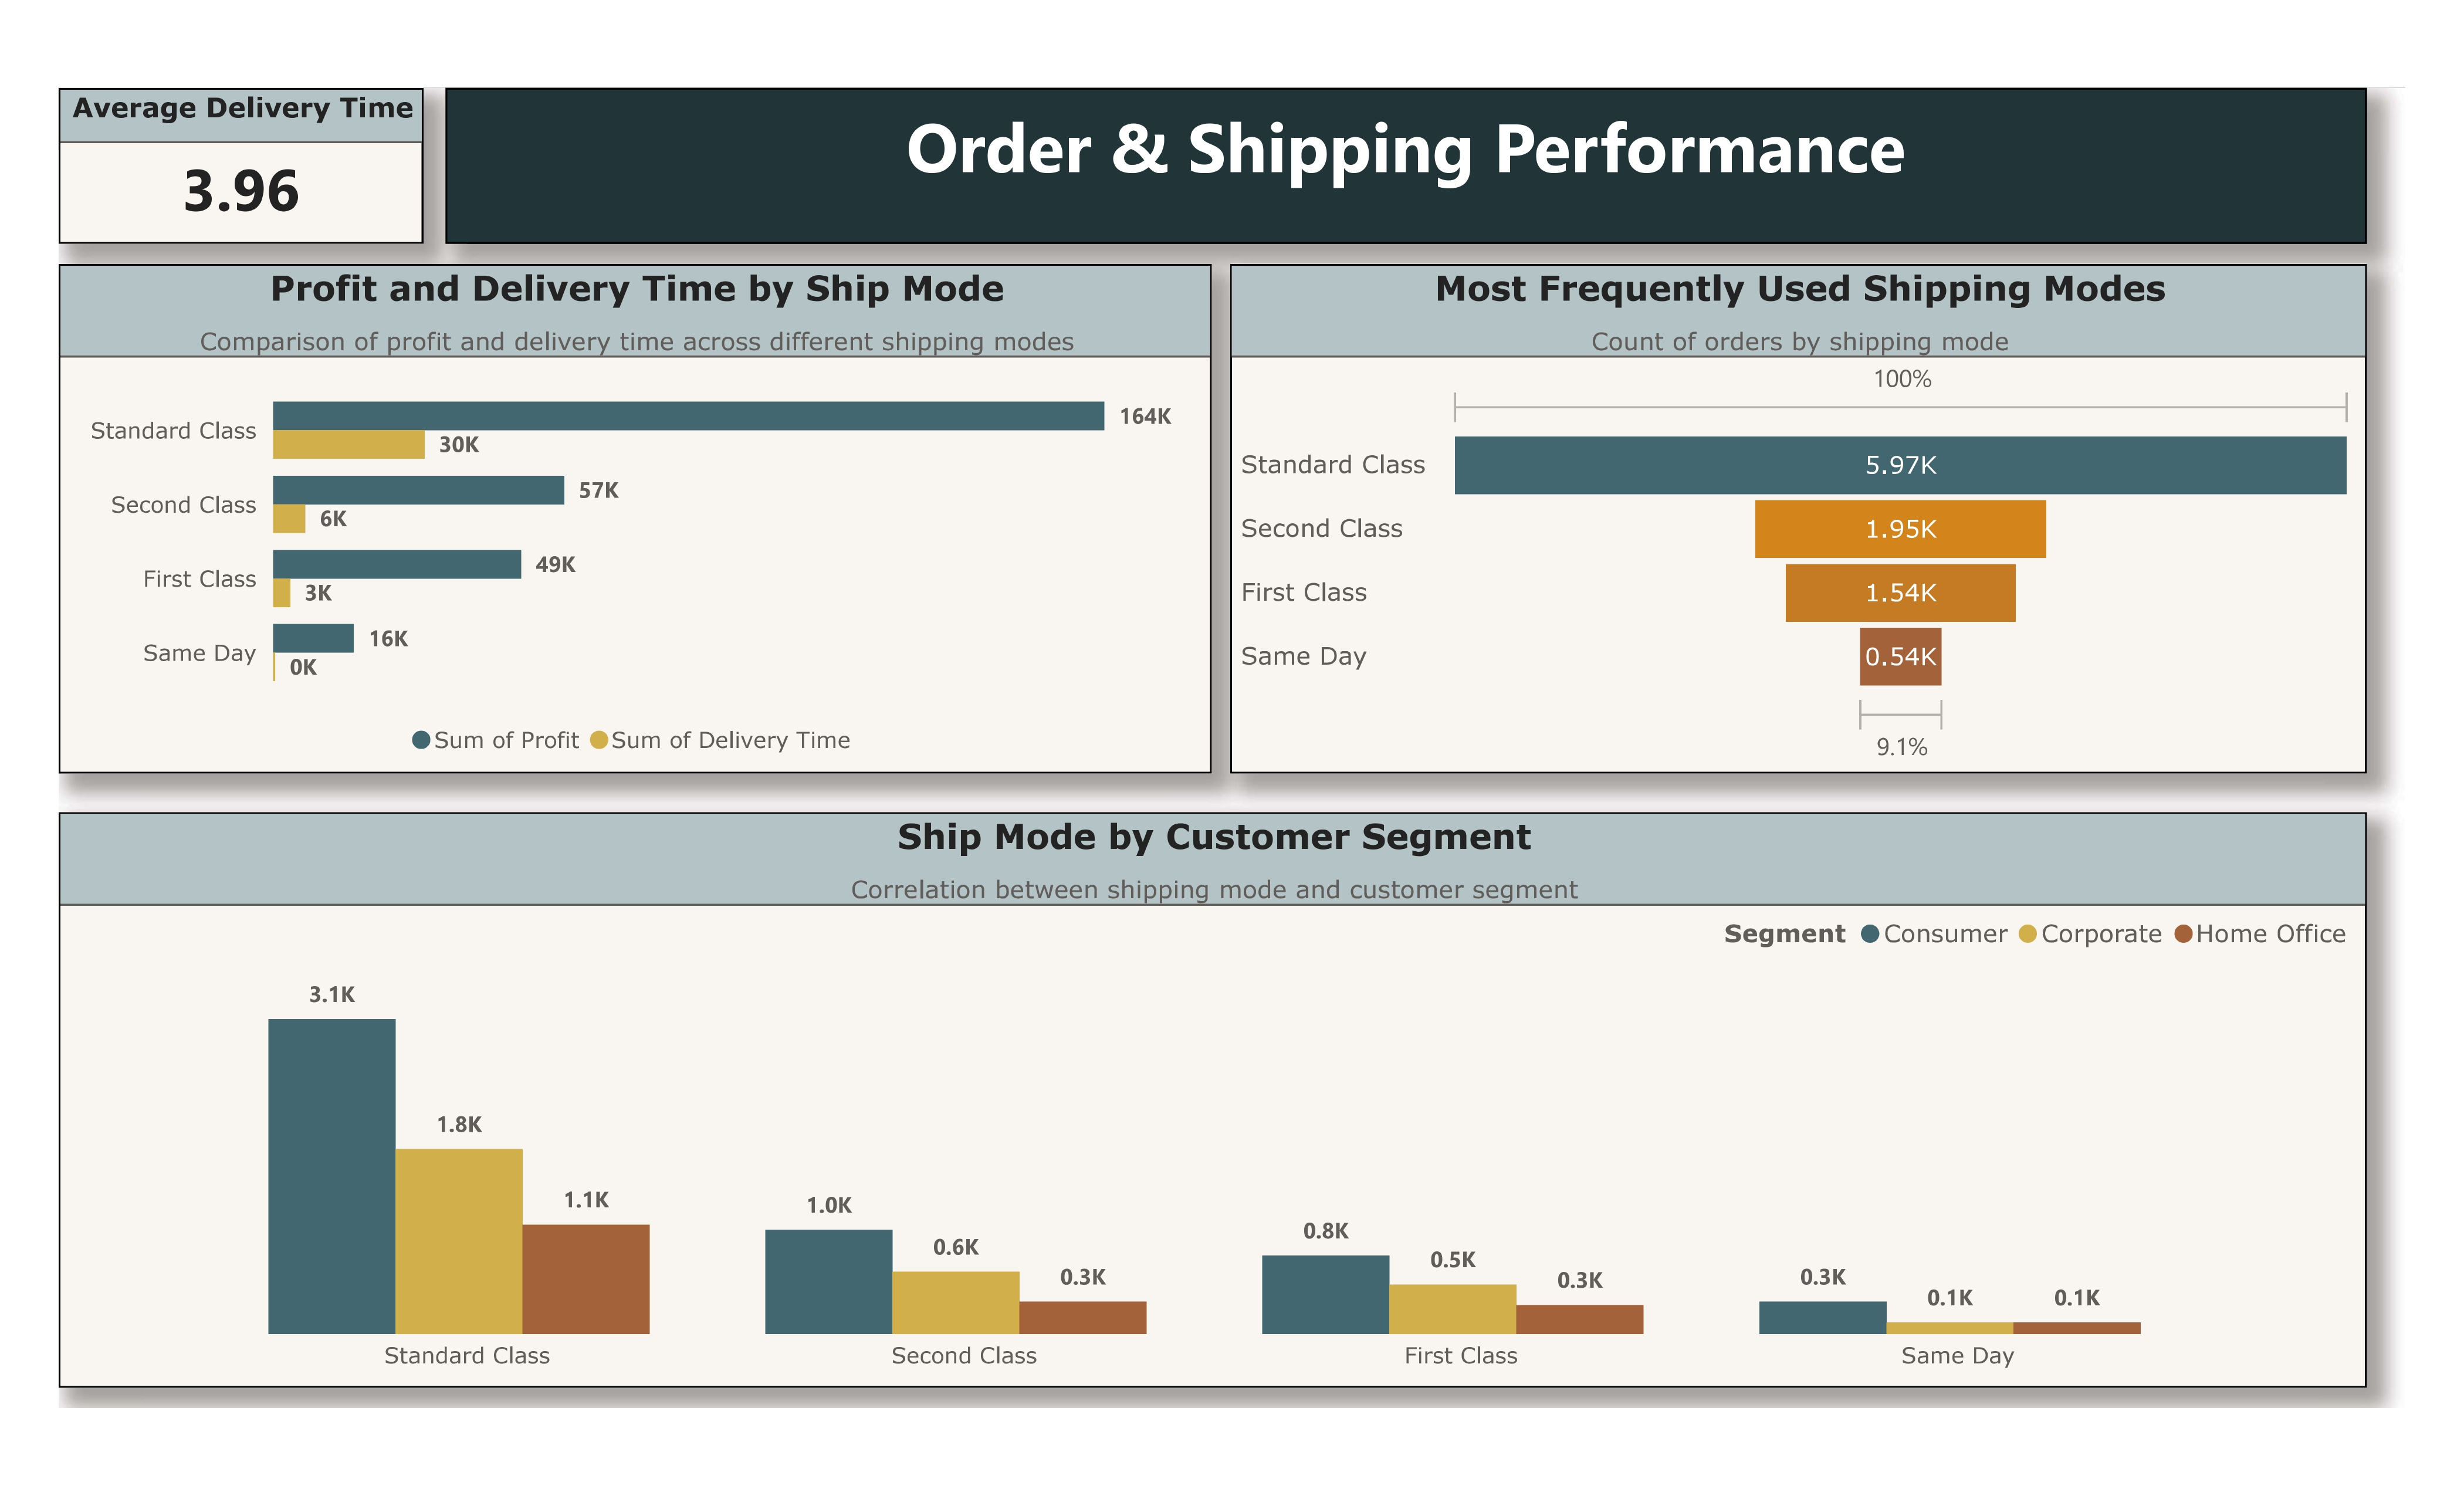

Layout of this report page (visuals, bound fields, positions):
{"tool":"powerbi","page":{"name":"Order & Shipping Performance","canvas":[1280,720],"ordinal":1},"visuals":[{"type":"textbox","box":[211.5,0,1047.5,84.6],"z":0},{"type":"card","title":"Average Delivery Time","fields":{"Values":["Avg(Orders.Delivery Time)"]},"box":[0,0,199.2,84.9],"z":1000},{"type":"clusteredBarChart","title":"Profit and Delivery Time by Ship Mode","fields":{"Category":["Orders.Ship Mode"],"Y":["Sum(Orders.Profit)","Sum(Orders.Delivery Time)"]},"box":[0,96,629.5,278.1],"z":2000},{"type":"funnel","title":"Most Frequently Used Shipping Modes","fields":{"Category":["Orders.Ship Mode"],"Y":["CountNonNull(Orders.Order ID)"]},"box":[639.2,96,619.7,278.1],"z":3000},{"type":"clusteredColumnChart","title":"Ship Mode by Customer Segment","fields":{"Series":["Orders.Segment"],"Y":["CountNonNull(Orders.Order ID)"],"Category":["Orders.Ship Mode"]},"box":[0,395.3,1258.9,313.9],"z":4000}]}

Visuals, with their boxes in screenshot pixels (x1, y1, x2, y2):
textbox: (x1=439, y1=77, x2=2357, y2=232)
"Average Delivery Time" card: (x1=52, y1=77, x2=416, y2=232)
"Profit and Delivery Time by Ship Mode" clusteredBarChart: (x1=52, y1=253, x2=1204, y2=762)
"Most Frequently Used Shipping Modes" funnel: (x1=1222, y1=253, x2=2357, y2=762)
"Ship Mode by Customer Segment" clusteredColumnChart: (x1=52, y1=801, x2=2357, y2=1376)
